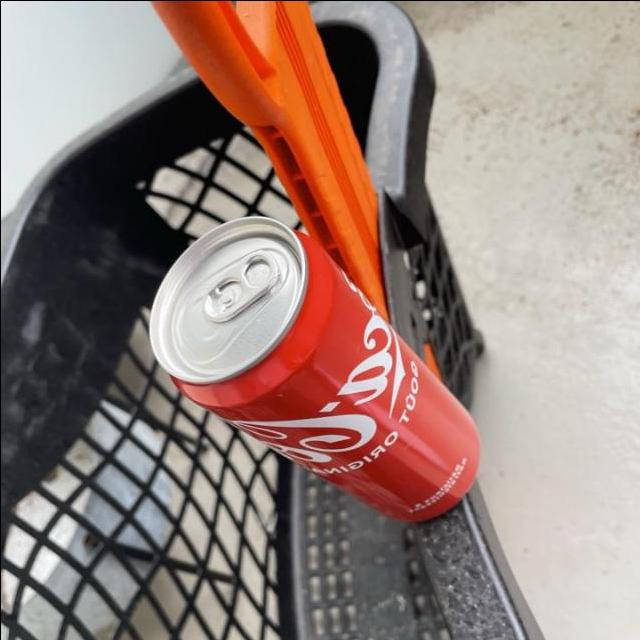can: (148, 215, 476, 523)
